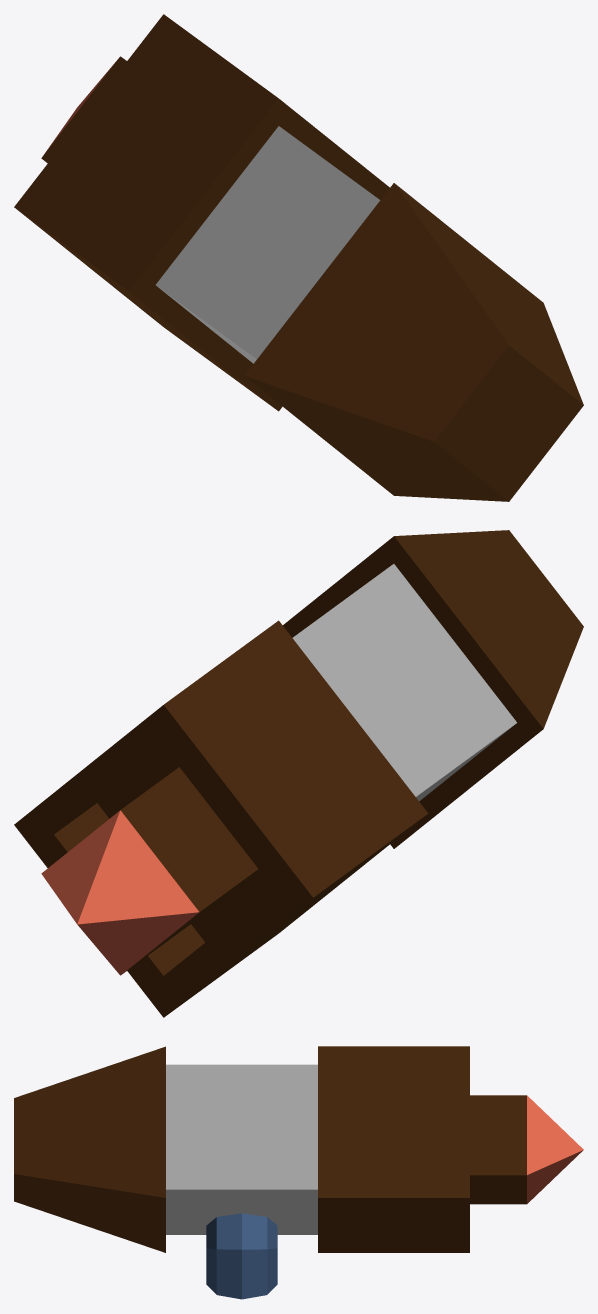
Rendered from PlayerRocketL2.glb.
3 renders of one model, top to bottom at view 1: azimuth 30°, elevation 25°; view 2: azimuth 150°, elevation 25°; view 3: azimuth 270°, elevation 25°, orthographic. The views are drawn at different scales.
Visible parts, largest first — view 1: RocketL1; view 2: RocketL1; view 3: RocketL1.
Part boxes in pixels (bbox=[...]): RocketL1: bbox=[14, 14, 583, 501]; RocketL1: bbox=[14, 530, 583, 1017]; RocketL1: bbox=[14, 1046, 583, 1299].
Bounding box in the file's own units: 0.4 × 0.4 × 1.
